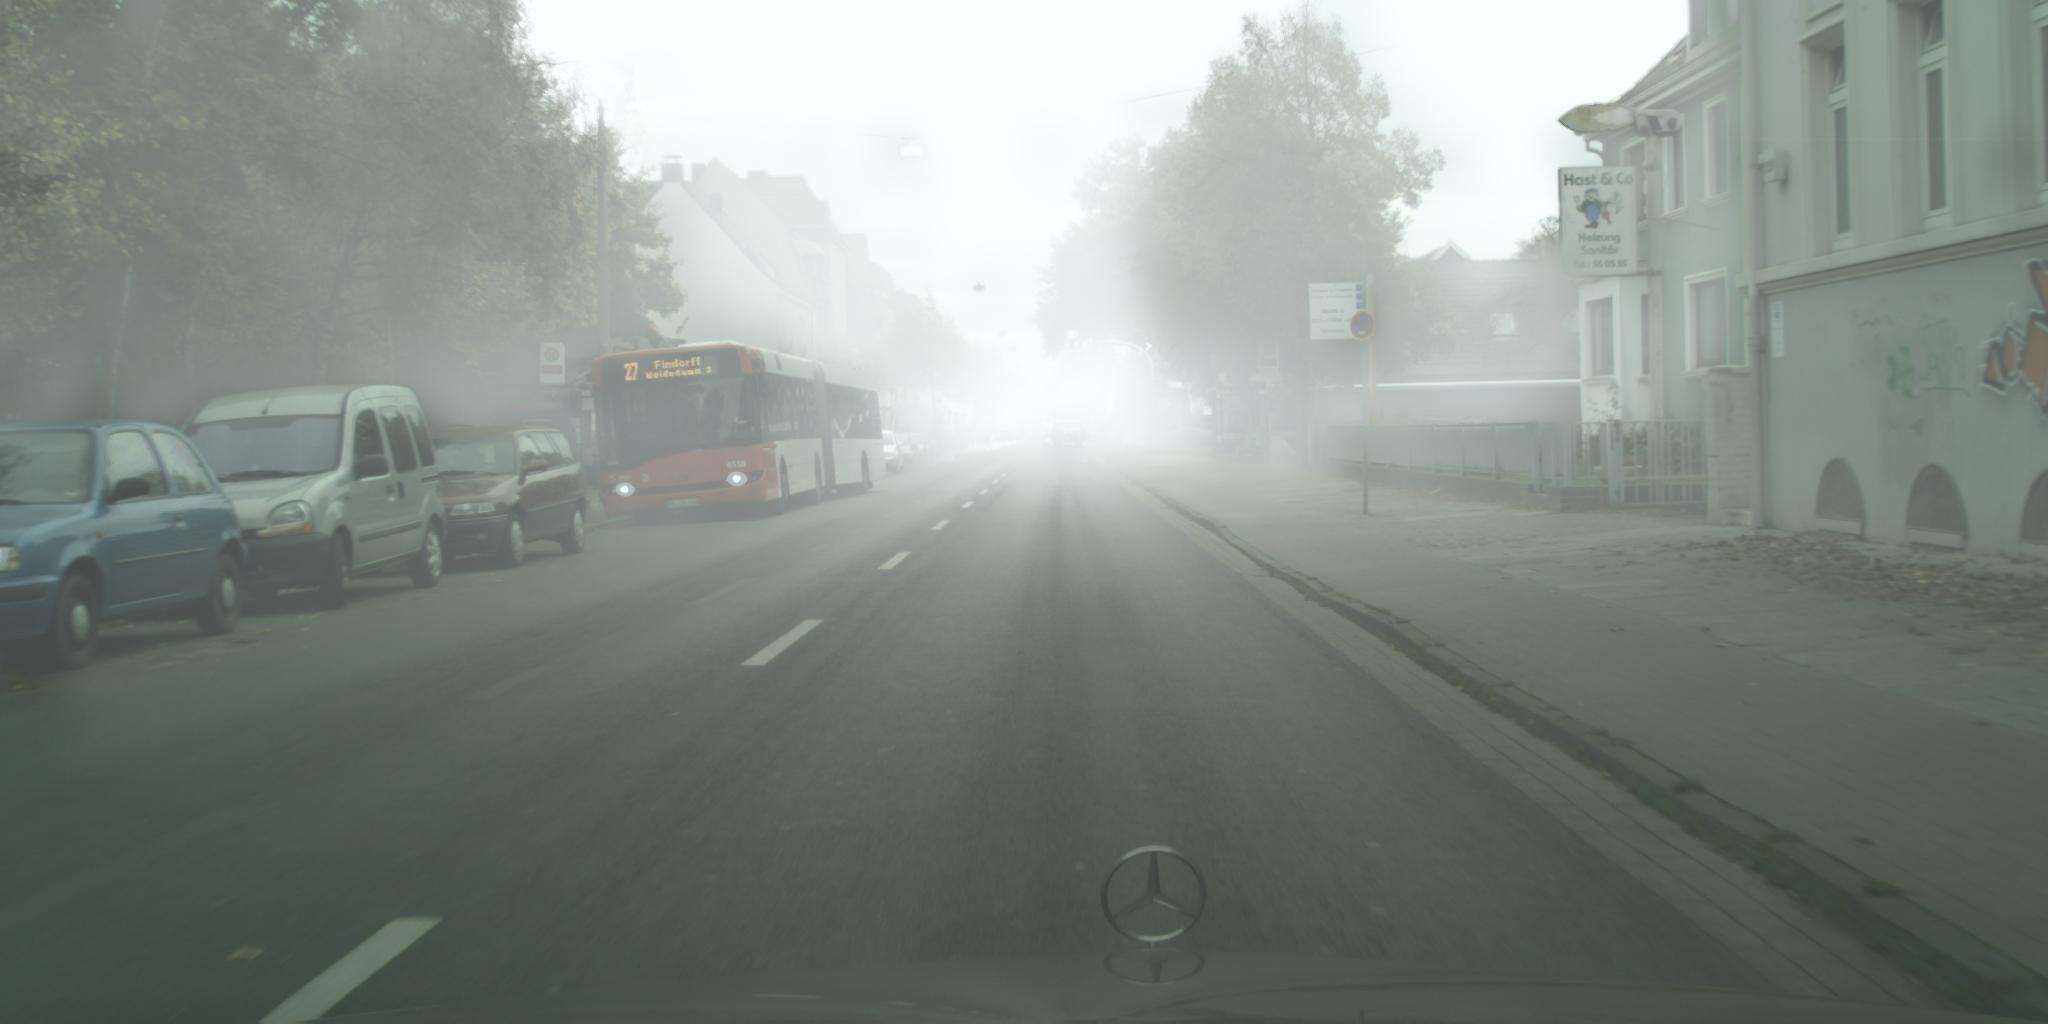bus: (596, 340, 889, 528)
car: (172, 384, 448, 613), (1, 421, 248, 673), (410, 419, 586, 571), (872, 431, 906, 478), (889, 434, 922, 472), (909, 432, 942, 466), (927, 434, 957, 462)
